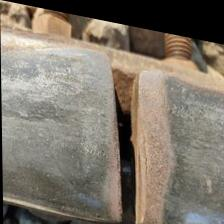person: (48, 32, 204, 224)
